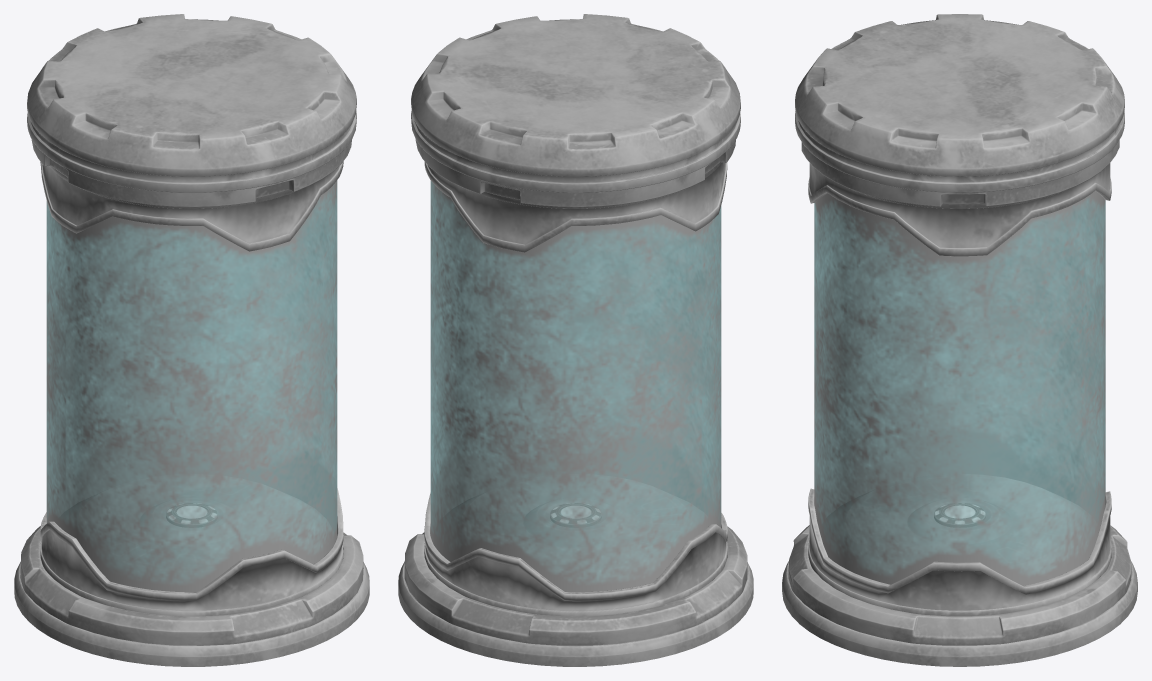
File: sci-fi_medical_tank_with_frost.glb
3 views of the same model, side by side, from view 1: azimuth 30°, elevation 25°; view 2: azimuth 150°, elevation 25°; view 3: azimuth 270°, elevation 25° (orthographic).
Parts seen in each view (by area): view 1: Glass-Tube-2_low, Cap-2_low, Bottom_Crank-2_low, Bottom-Cage-2_low, Top-Cage-2_low, Bottom_Gravitywell2_low, Base-2_low, Top-Crank-2_low, Bottom-Levitator-2_low; view 2: Glass-Tube-2_low, Cap-2_low, Bottom_Crank-2_low, Bottom-Cage-2_low, Top-Cage-2_low, Bottom_Gravitywell2_low, Base-2_low, Top-Crank-2_low, Bottom-Levitator-2_low; view 3: Glass-Tube-2_low, Cap-2_low, Bottom_Gravitywell2_low, Bottom_Crank-2_low, Bottom-Cage-2_low, Top-Cage-2_low, Base-2_low, Top-Crank-2_low, Bottom-Levitator-2_low.
Boxes of the visible parts, box(x1,y1,x2,y2) form: Glass-Tube-2_low: box(46, 180, 337, 591); Cap-2_low: box(27, 14, 356, 192); Bottom_Crank-2_low: box(20, 526, 363, 645); Bottom-Cage-2_low: box(40, 488, 343, 616); Top-Cage-2_low: box(40, 161, 343, 251); Bottom_Gravitywell2_low: box(62, 474, 330, 579); Base-2_low: box(14, 562, 369, 666); Top-Crank-2_low: box(31, 139, 351, 207); Bottom-Levitator-2_low: box(166, 503, 217, 527); Glass-Tube-2_low: box(430, 181, 721, 592); Cap-2_low: box(411, 14, 740, 192); Bottom_Crank-2_low: box(404, 526, 747, 645); Bottom-Cage-2_low: box(424, 493, 727, 616); Top-Cage-2_low: box(424, 162, 727, 252); Bottom_Gravitywell2_low: box(448, 475, 703, 579); Base-2_low: box(398, 562, 753, 666); Top-Crank-2_low: box(415, 139, 735, 207); Bottom-Levitator-2_low: box(550, 503, 601, 527); Glass-Tube-2_low: box(814, 191, 1105, 585); Cap-2_low: box(795, 14, 1124, 192); Bottom_Gravitywell2_low: box(825, 474, 1085, 573); Bottom_Crank-2_low: box(788, 525, 1131, 645); Bottom-Cage-2_low: box(808, 488, 1111, 616); Top-Cage-2_low: box(808, 163, 1111, 256); Base-2_low: box(782, 561, 1137, 666); Top-Crank-2_low: box(801, 140, 1119, 206); Bottom-Levitator-2_low: box(934, 503, 985, 527).
Size of the model in its own units: 15.42 by 24.66 by 15.42.
1 material, 1 textured.
